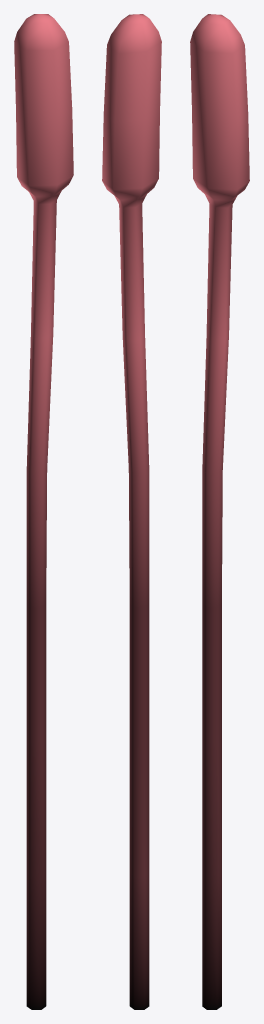
Rendered from DetReed01.fbx.
The picture shows the model from 3 angles, left to right: view 1: azimuth 30°, elevation 25°; view 2: azimuth 210°, elevation 25°; view 3: azimuth 330°, elevation 25°; orthographic projection.
Visible parts, largest first — view 1: DetReed01_LOD0; view 2: DetReed01_LOD0; view 3: DetReed01_LOD0.
Boxes of the visible parts, left/top/right/bottom form: DetReed01_LOD0: left=14, top=14, right=73, bottom=1009; DetReed01_LOD0: left=102, top=14, right=161, bottom=1009; DetReed01_LOD0: left=190, top=14, right=249, bottom=1009.
Size of what is drawn, in the model's own units: 7.82 by 154 by 6.78.
